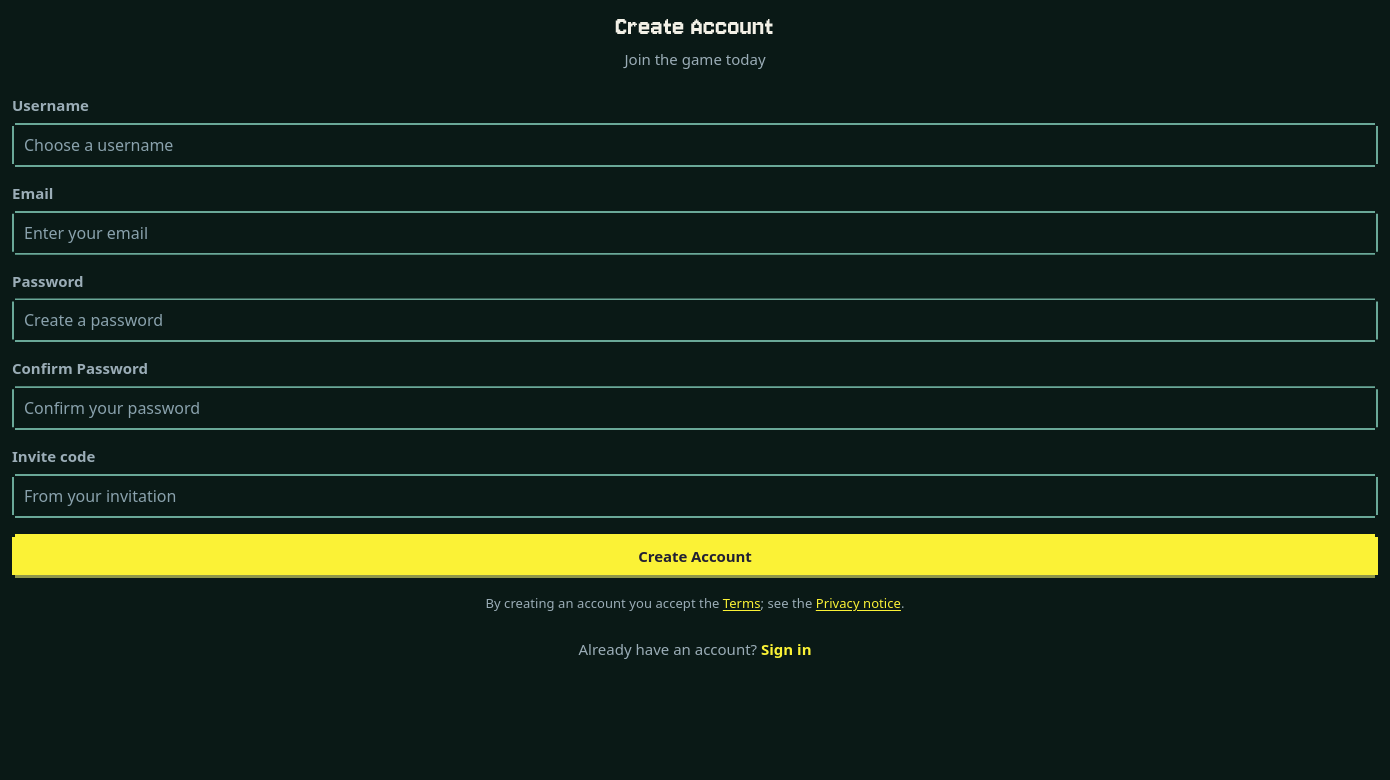
Test: SignupForm failures › a server error shows a generic try-again, not the browser's or Spring's text
The image size is (1390, 780).
Step 1. Type "ana" into the field labelled "Username" → (695,145), box [12, 123, 1378, 167]
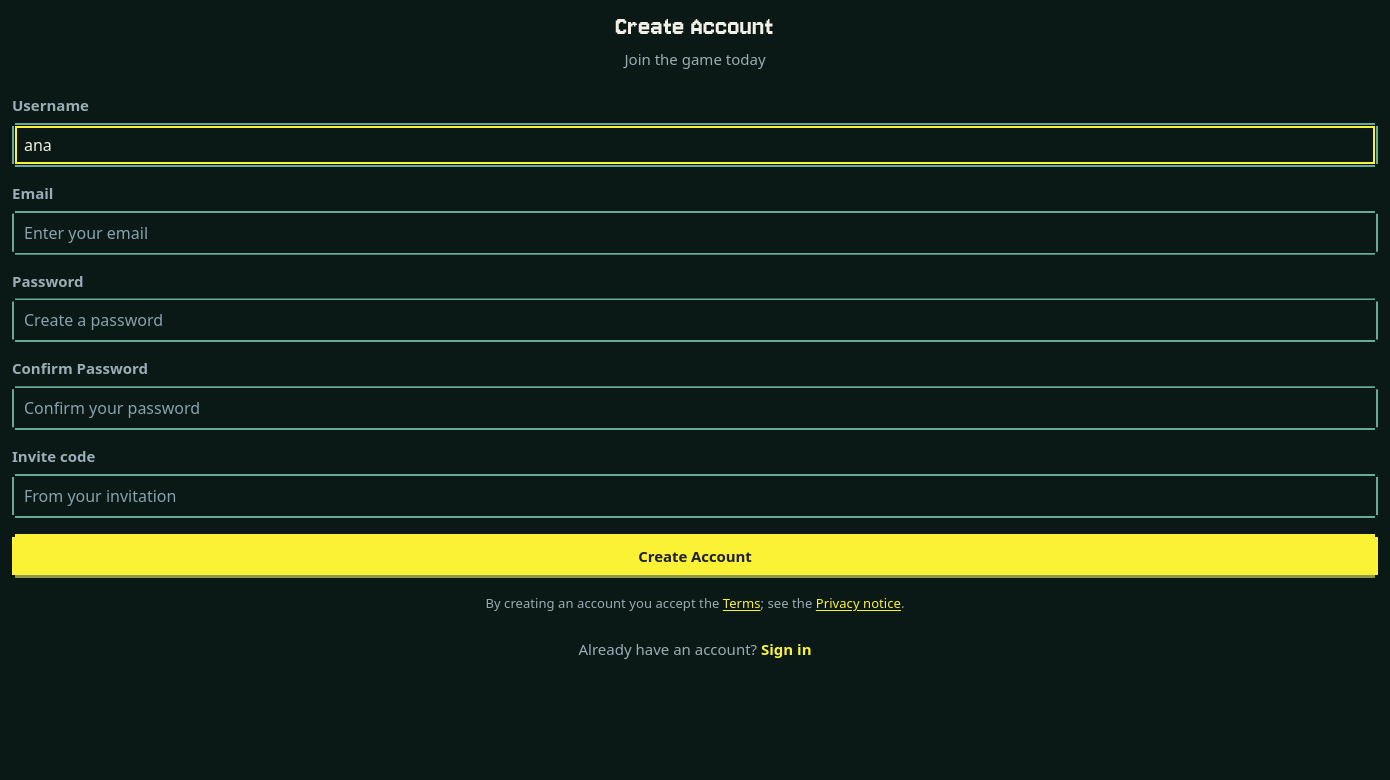
Step 2. Type "ana@example.com" into the field labelled "Email" → (695,233), box [12, 211, 1378, 255]
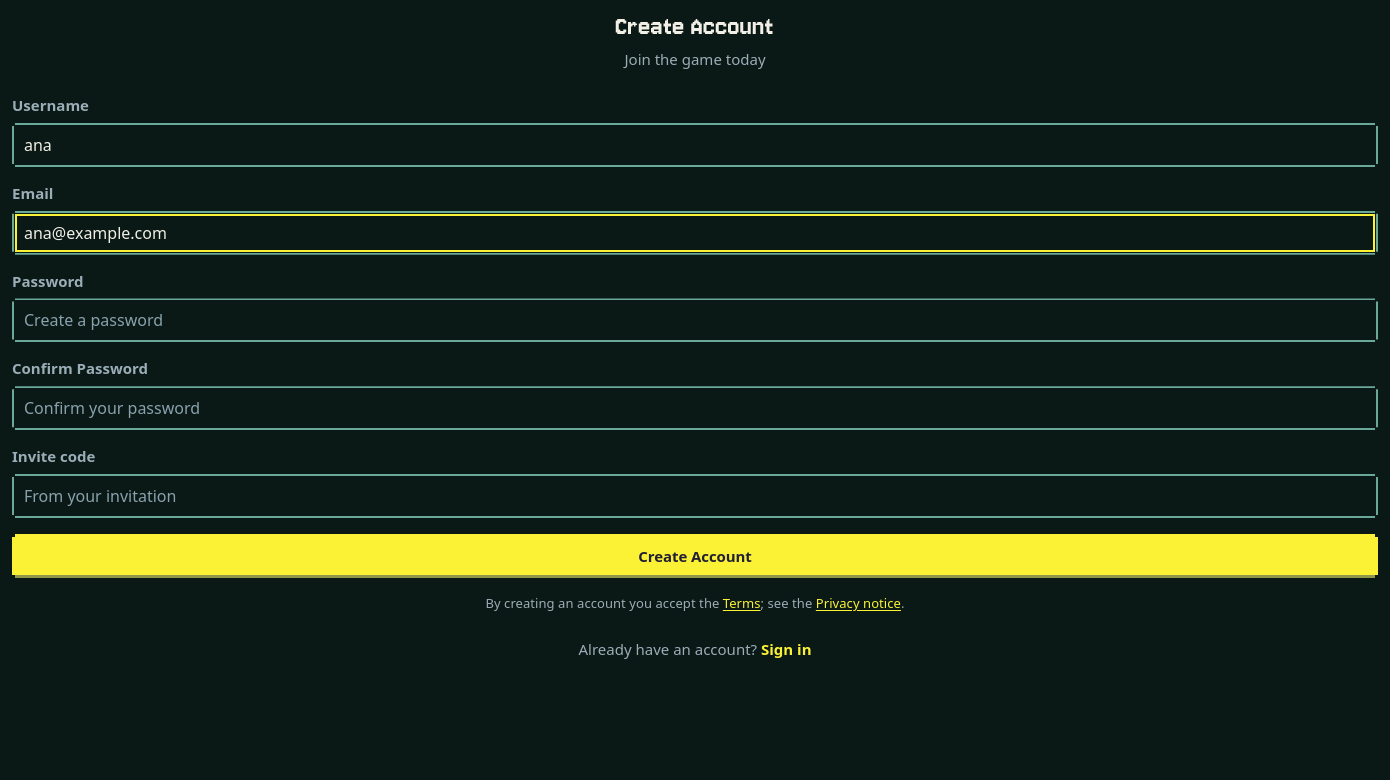
Step 3. Type "long-enough-1" into the password field labelled "Password" → (695,320), box [12, 298, 1378, 342]
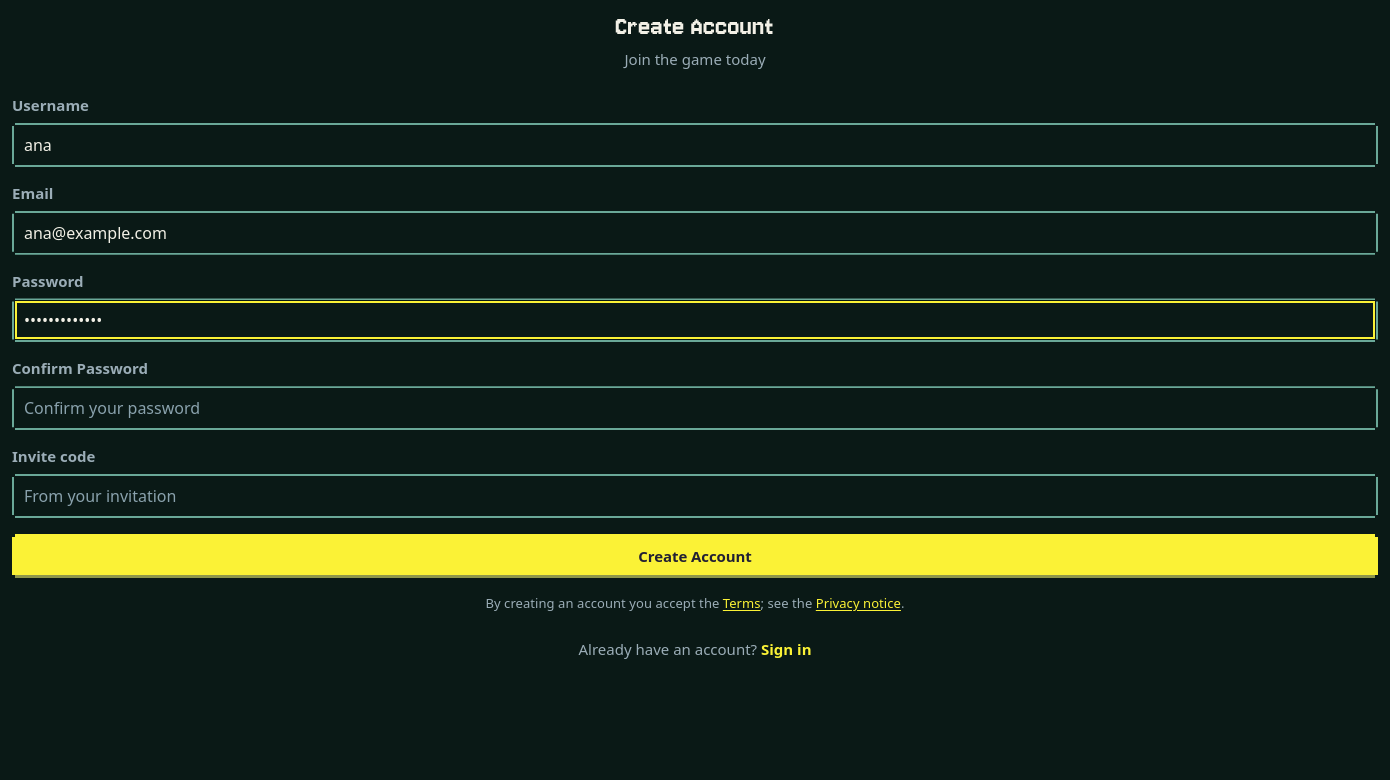
Step 4. Type "long-enough-1" into the password field labelled "Confirm Password" → (695,408), box [12, 386, 1378, 430]
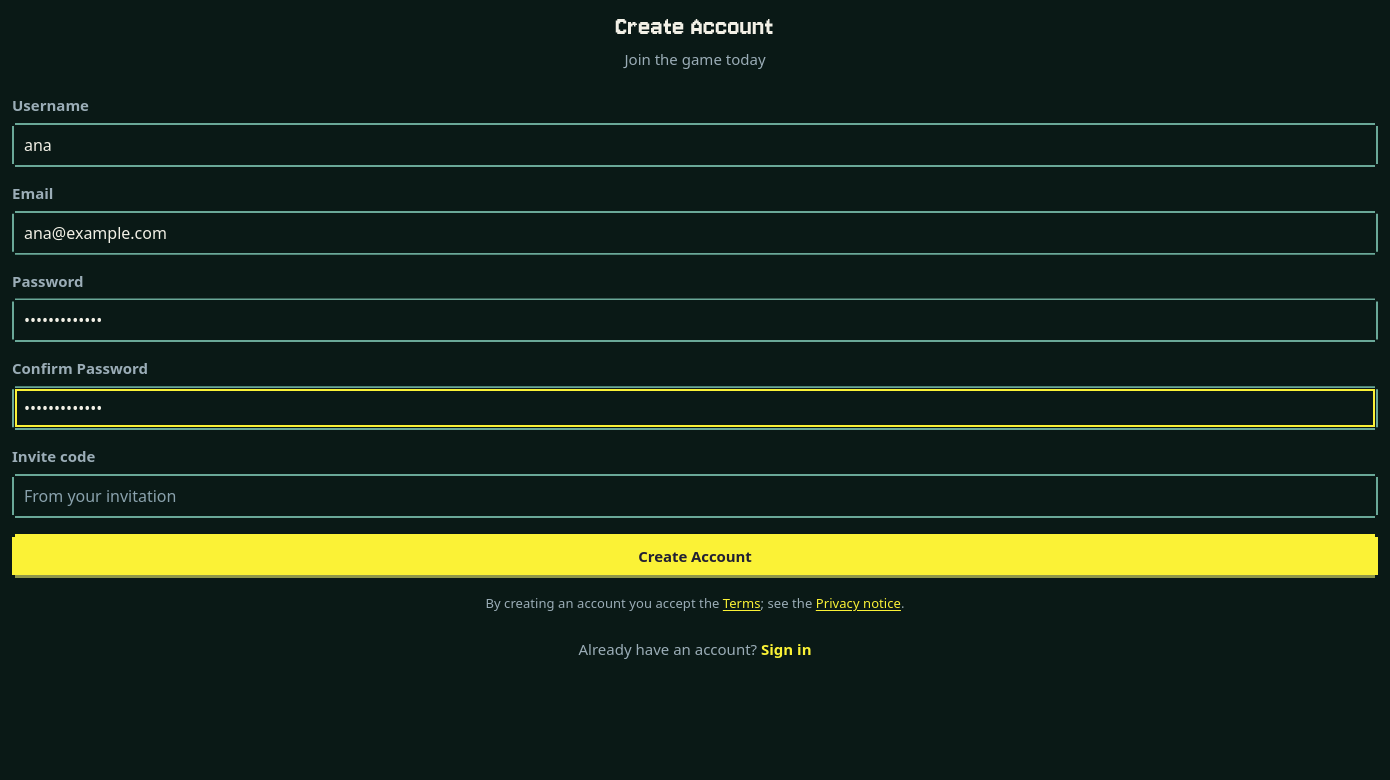
Step 5. Click the button "Create Account" → (695,556), box [12, 534, 1378, 578]
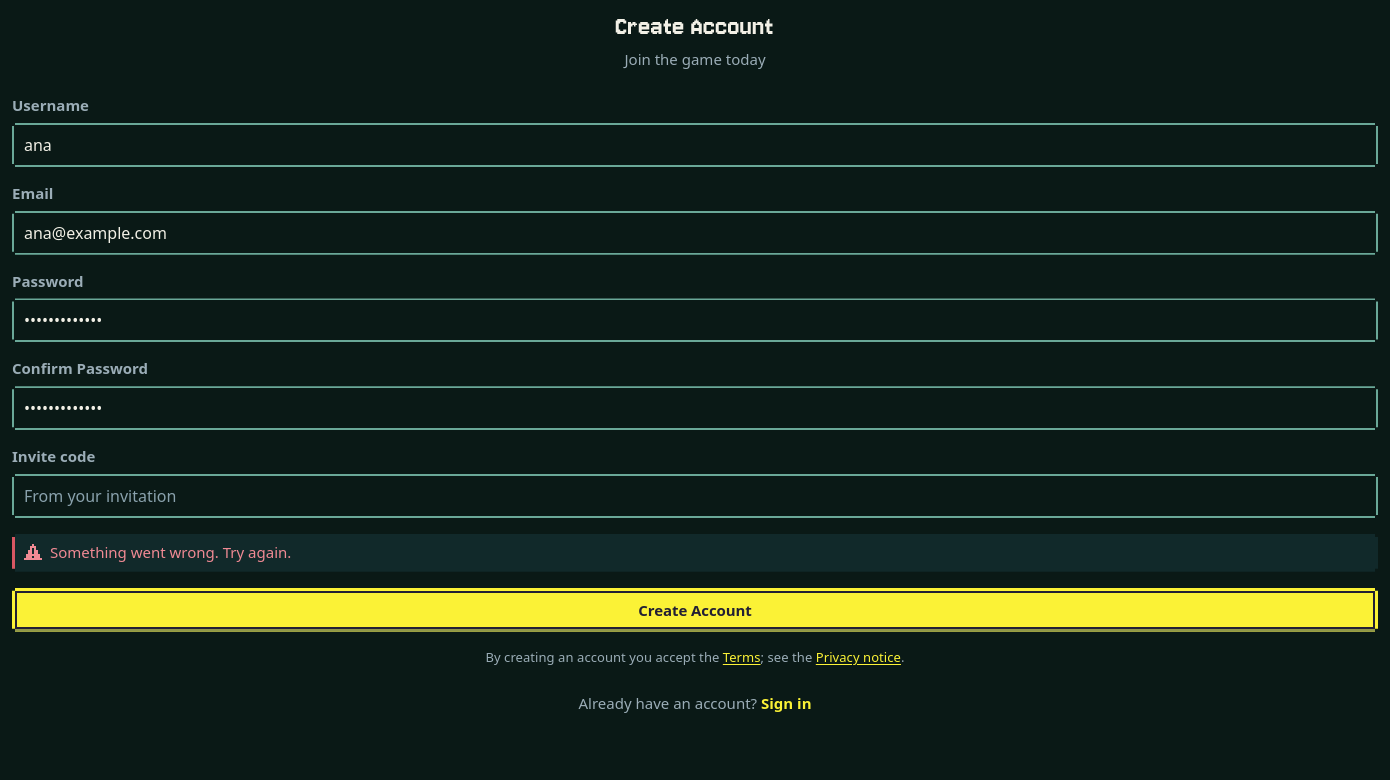
Check: the text "Something went wrong. Try again." is shown, box [50, 542, 291, 564]
